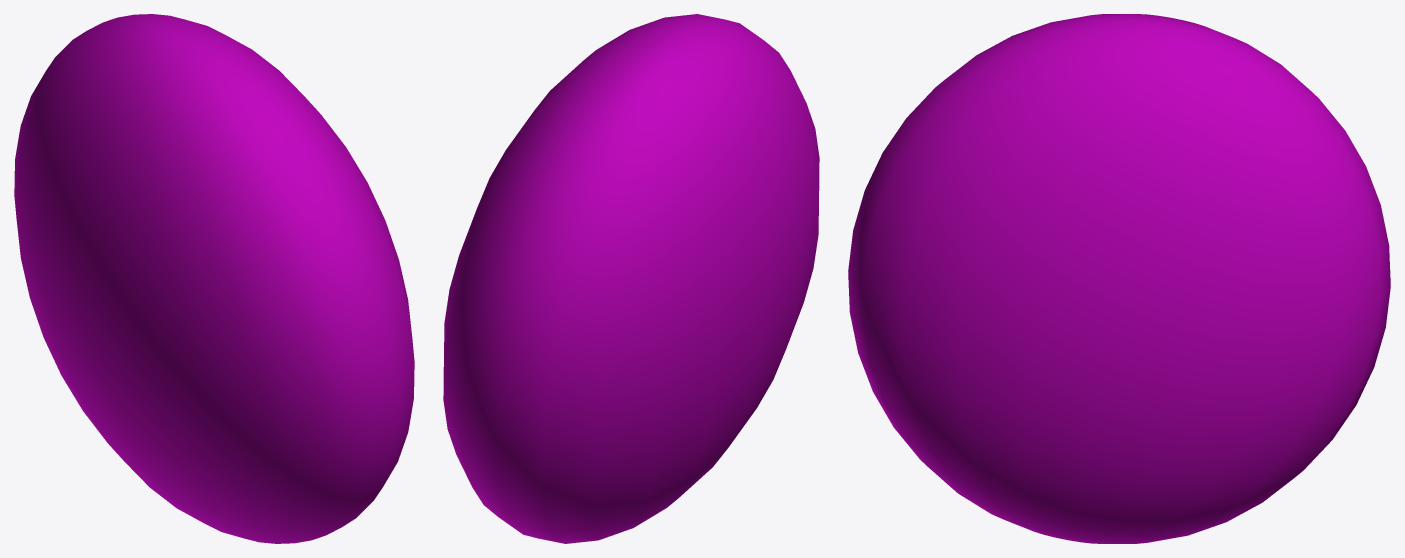
The model's file is Dog Skeleton Death Still.fbx.
The picture shows the model from 3 angles, left to right: view 1: azimuth 30°, elevation 25°; view 2: azimuth 150°, elevation 25°; view 3: azimuth 270°, elevation 25°; orthographic projection. The views are drawn at different scales.
Parts seen in each view (by area): view 1: Pelvis_Controller; view 2: Pelvis_Controller; view 3: Pelvis_Controller.
Boxes of the visible parts, left/top/right/bottom form: Pelvis_Controller: left=14, top=14, right=414, bottom=543; Pelvis_Controller: left=443, top=14, right=819, bottom=543; Pelvis_Controller: left=848, top=14, right=1390, bottom=543.
Size of what is drawn, in the model's own units: 0.217 by 0.3747 by 0.3796.
